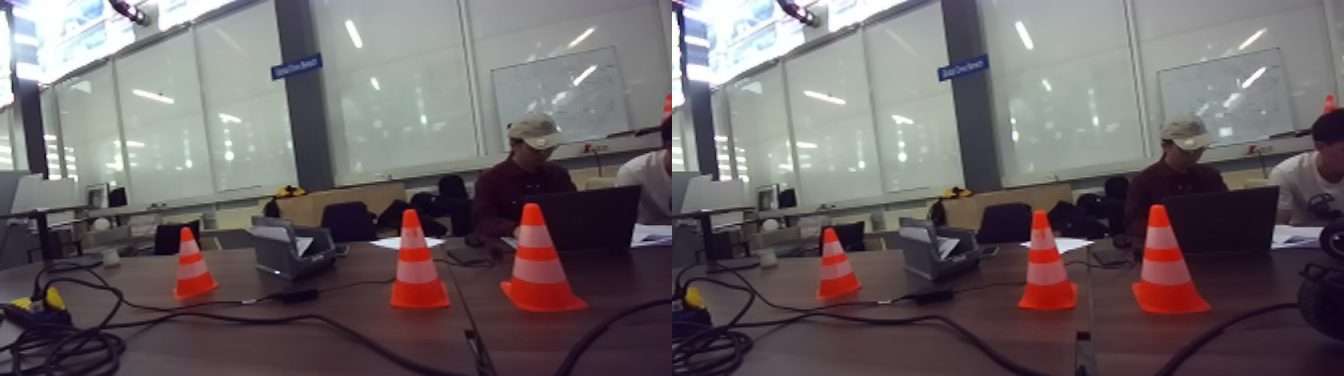cone: (491, 189, 609, 331), (1124, 194, 1223, 332), (379, 187, 461, 335), (1006, 202, 1089, 320), (794, 216, 882, 316), (173, 223, 220, 320)
